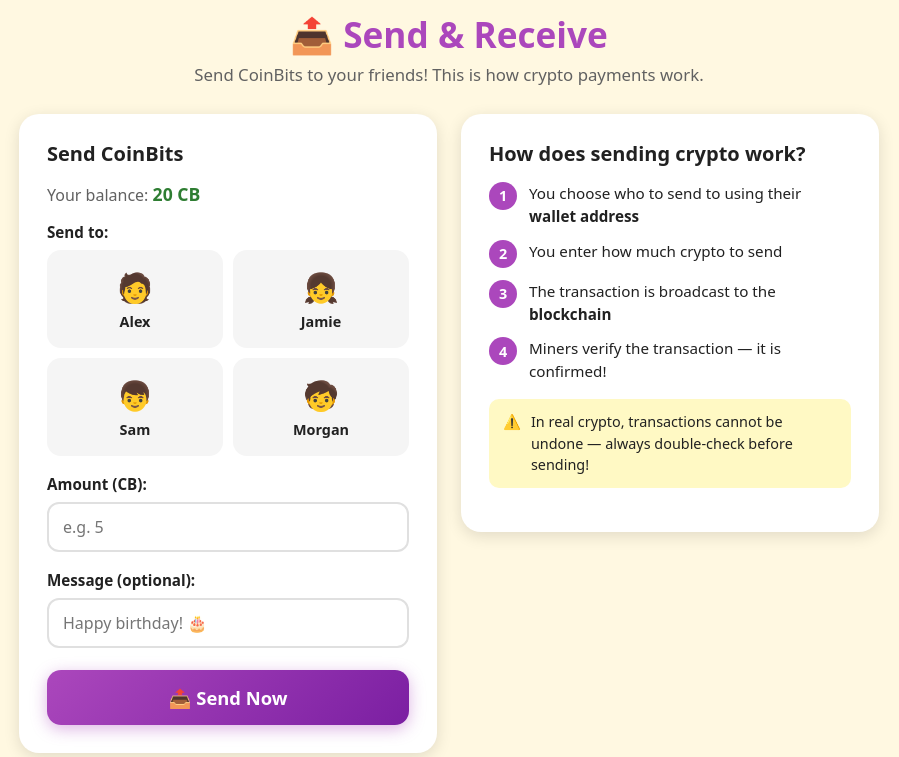
Test: Transfer page › shows error if sending more than balance
The image size is (899, 757).
Click the text "Alex" at (135, 322), box [120, 312, 150, 331]
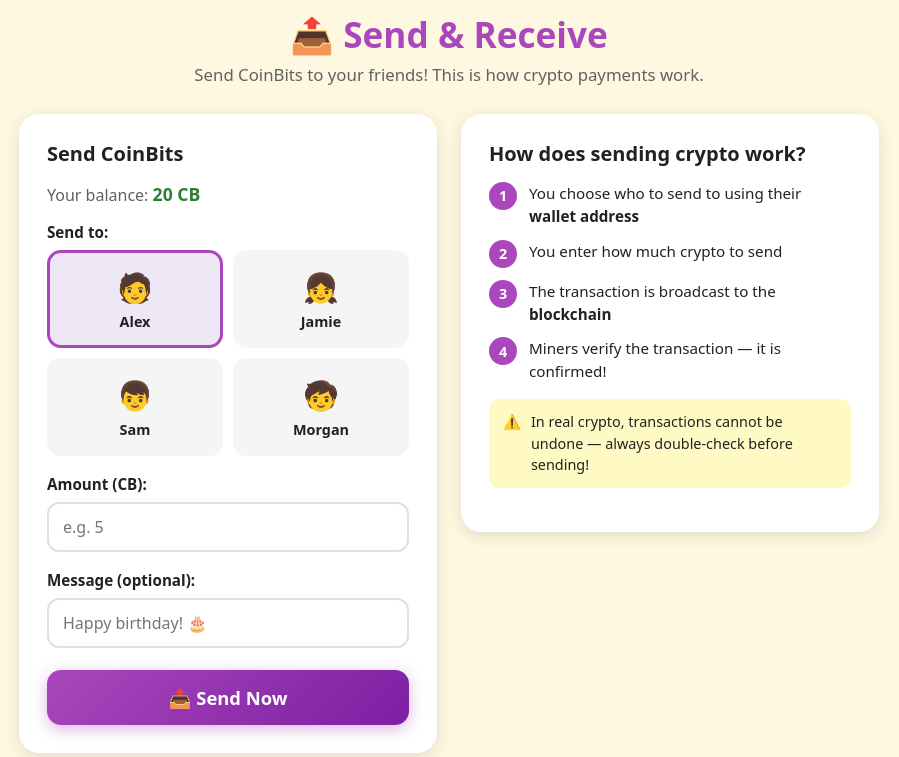
Type "9999" into the number field labelled "Amount (CB):" at (228, 527), box [47, 502, 409, 552]
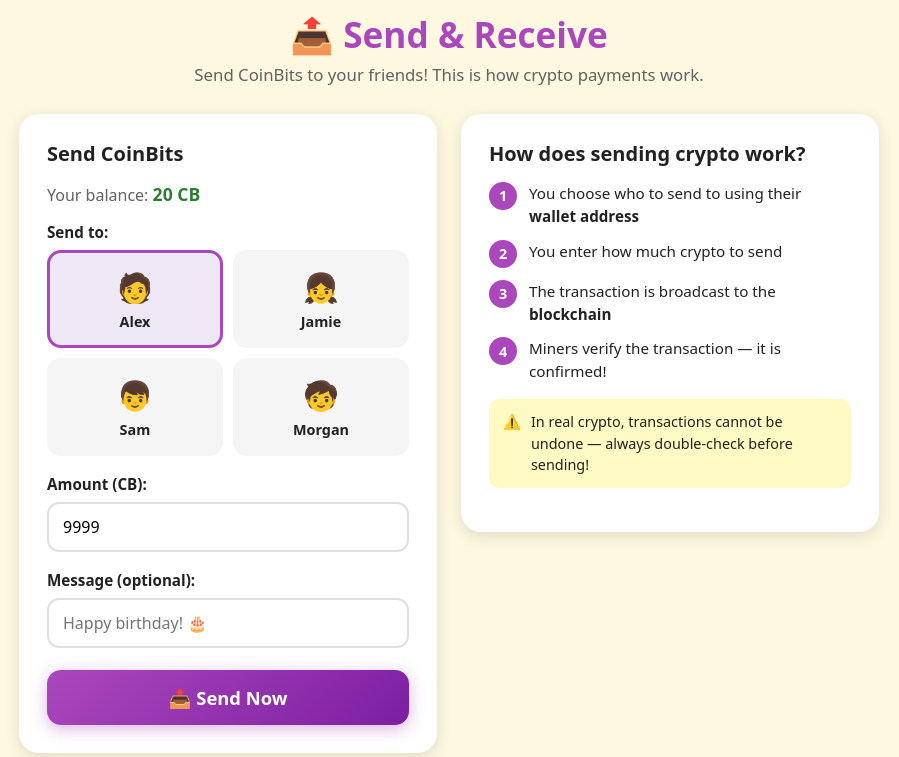
Click the button "📤 Send Now" at (228, 698), box [47, 670, 409, 725]
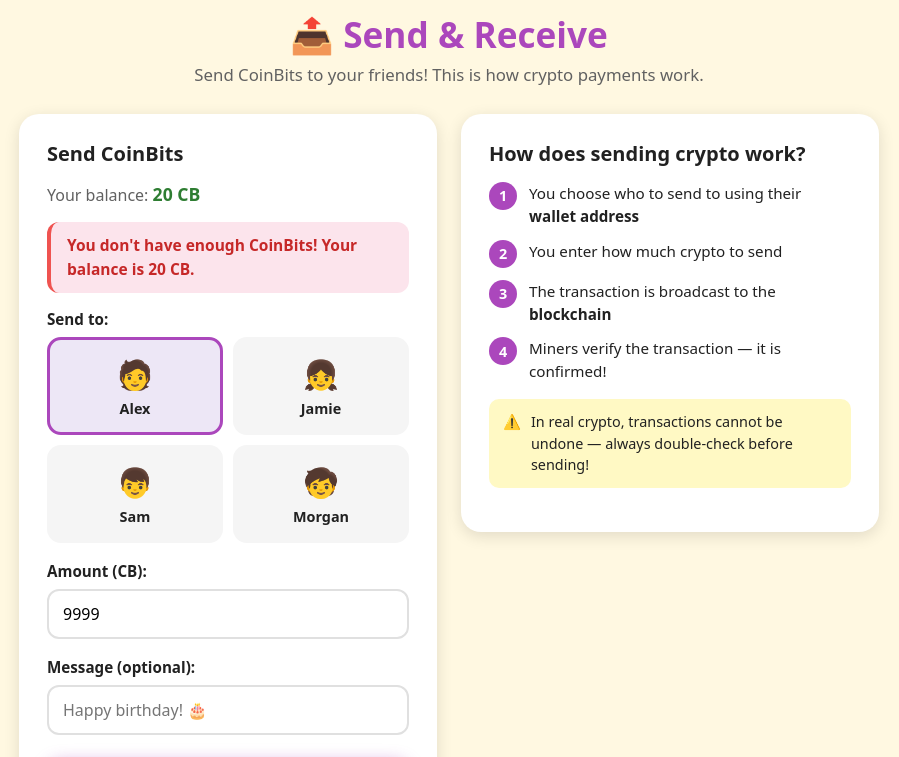
Now the text "You don't have enough CoinBits! Your balance is 20 CB." is shown, box [47, 222, 409, 293]
